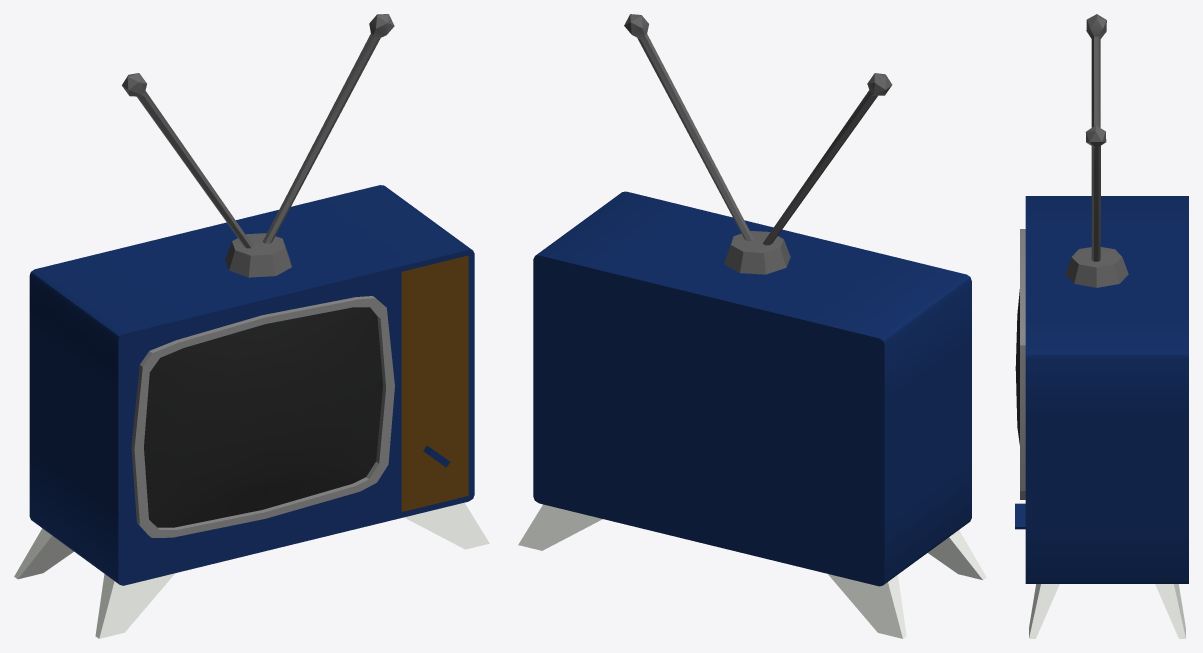
The picture shows the model from 3 angles, left to right: view 1: azimuth 30°, elevation 25°; view 2: azimuth 150°, elevation 25°; view 3: azimuth 270°, elevation 25°; orthographic projection. The views are drawn at different scales.
Visible parts, largest first — view 1: TV; view 2: TV; view 3: TV.
Boxes of the visible parts, x1,y1,x2,y2 form: TV: (14,14,489,638); TV: (518,14,986,638); TV: (1015,14,1188,638).
Bounding box in the file's own units: 0.8773 × 1.12 × 0.3668.
